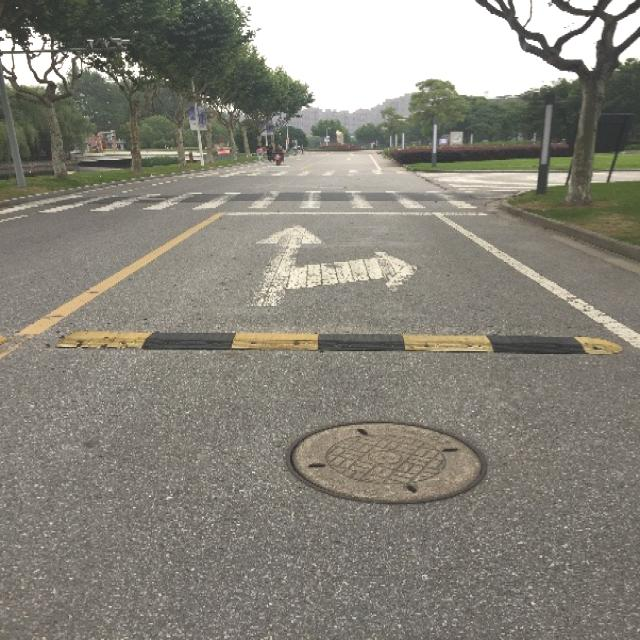Speed Bump: (46, 323, 625, 367)
